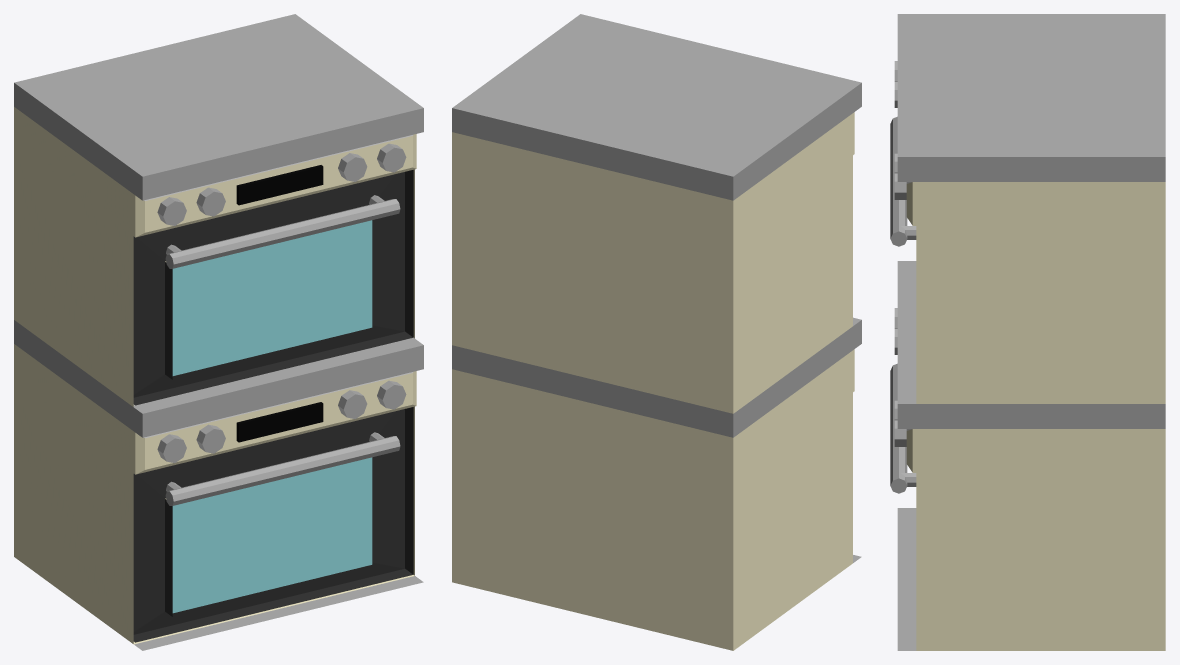
File: backofen.fbx
3 views of the same model, side by side, from view 1: azimuth 30°, elevation 25°; view 2: azimuth 150°, elevation 25°; view 3: azimuth 270°, elevation 25° (orthographic). The views are drawn at different scales.
Visible parts, largest first — view 1: Cube.007; view 2: Cube.007; view 3: Cube.007.
Boxes of the visible parts, x1,y1,x2,y2 form: Cube.007: (14,14,423,650); Cube.007: (452,14,861,650); Cube.007: (890,14,1165,650).
Size of the model in its own units: 271 by 437 by 221.
